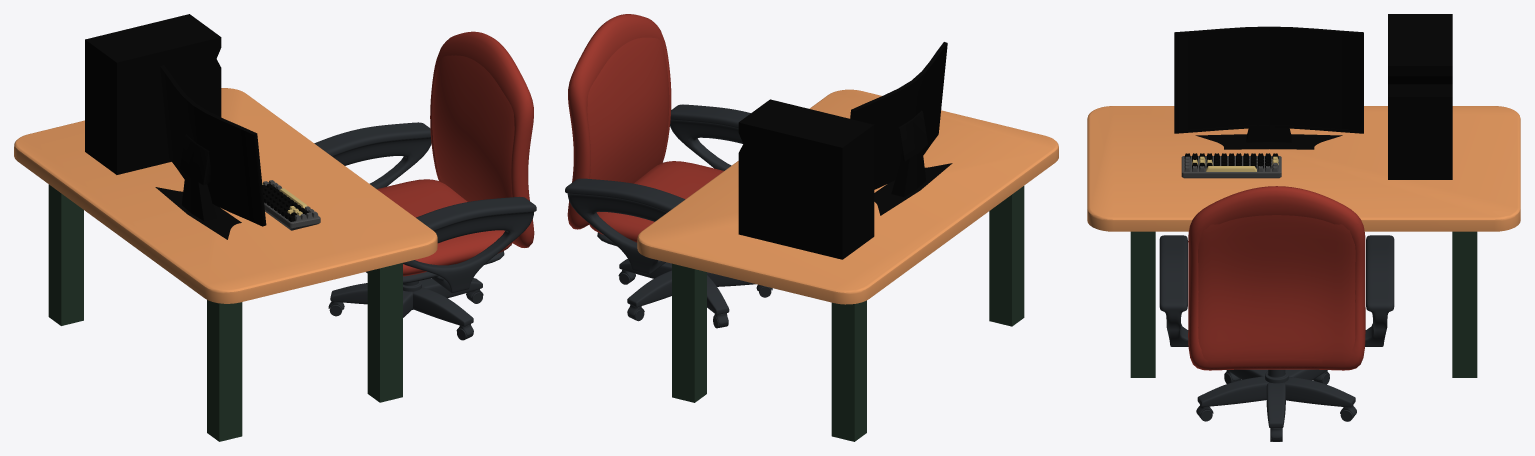
Rendered from SetUp.fbx.
3 renders of one model, left to right at view 1: azimuth 30°, elevation 25°; view 2: azimuth 150°, elevation 25°; view 3: azimuth 270°, elevation 25°, orthographic. The views are drawn at different scales.
Visible parts, largest first — view 1: Mesa, Cylinder.003, Cube.001, Cube, Teclas.060; view 2: Mesa, Cylinder.003, Cube.001, Cube; view 3: Mesa, Cylinder.003, Cube, Cube.001, Teclas.060.
Part boxes in pixels (x1,y1,x2,y2): Mesa: (14,88,437,441); Cylinder.003: (314,31,536,340); Cube.001: (85,14,221,174); Cube: (155,65,266,239); Teclas.060: (264,202,320,230); Mesa: (637,89,1058,441); Cylinder.003: (565,14,772,328); Cube.001: (738,99,874,259); Cube: (850,42,952,215); Mesa: (1087,106,1520,377); Cylinder.003: (1159,186,1394,441); Cube: (1174,26,1363,149); Cube.001: (1388,14,1452,179); Teclas.060: (1181,156,1281,178).
Size of the model in its own units: 5673 by 4075 by 5613.
